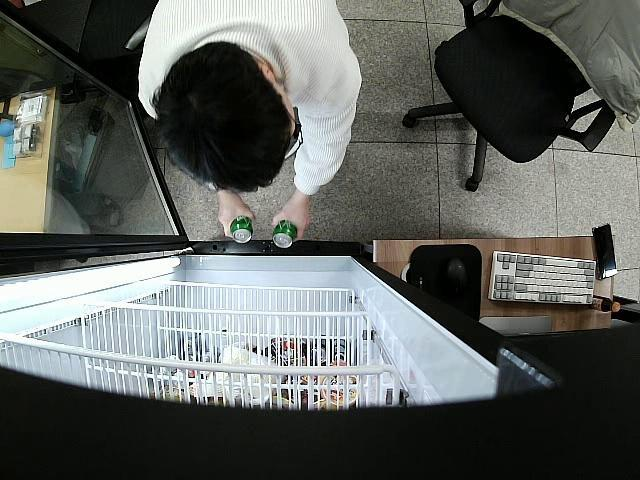12_chilsungCider: (273, 220, 298, 248), (230, 216, 253, 244)
